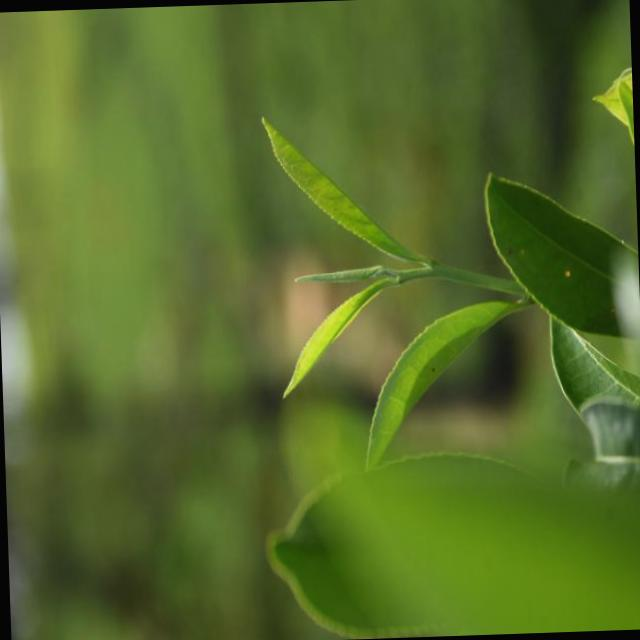Stem: (427, 260, 446, 275)
